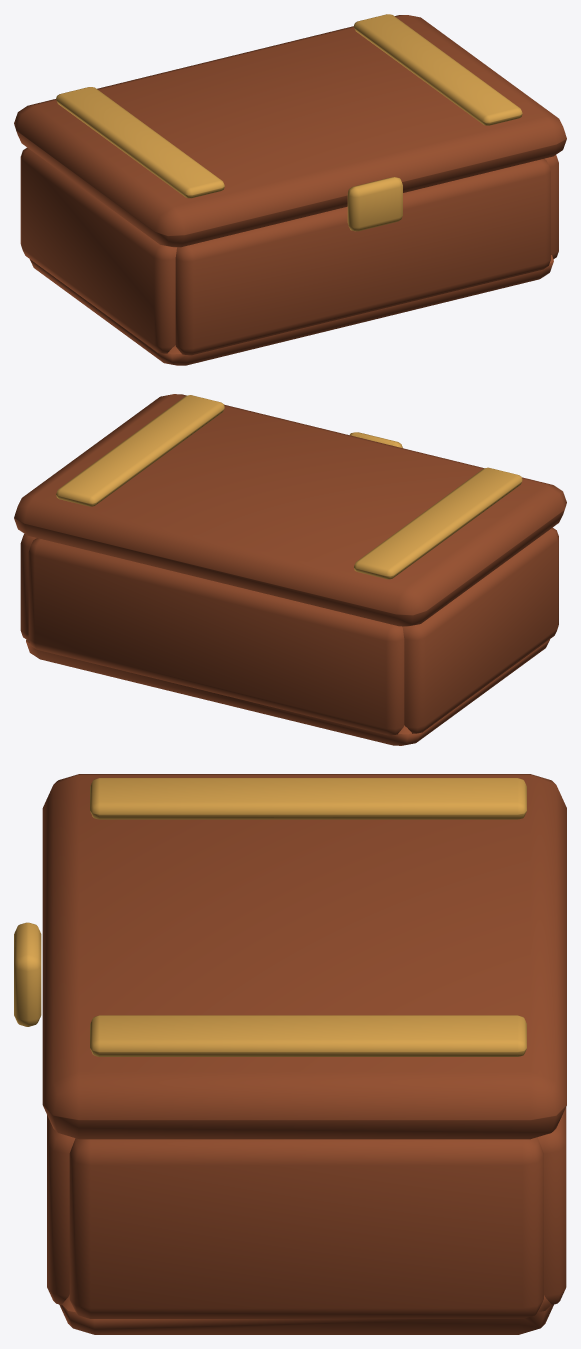
File: wooden-cashbox.glb
The picture shows the model from 3 angles, top to bottom: view 1: azimuth 30°, elevation 25°; view 2: azimuth 150°, elevation 25°; view 3: azimuth 270°, elevation 25°; orthographic projection. The views are drawn at different scales.
Parts seen in each view (by area): view 1: wooden lid, rounded wooden case, lid straps and clasp; view 2: rounded wooden case, wooden lid, lid straps and clasp; view 3: wooden lid, rounded wooden case, lid straps and clasp.
Boxes of the visible parts, x1,y1,x2,y2 form: wooden lid: [14, 15, 566, 247]; rounded wooden case: [20, 147, 558, 365]; lid straps and clasp: [56, 14, 522, 231]; rounded wooden case: [20, 527, 558, 745]; wooden lid: [14, 394, 566, 626]; lid straps and clasp: [56, 395, 522, 579]; wooden lid: [42, 774, 566, 1139]; rounded wooden case: [47, 1107, 566, 1334]; lid straps and clasp: [14, 778, 526, 1056].
Size of the model in its own units: 1.24 by 0.5015 by 0.886.
